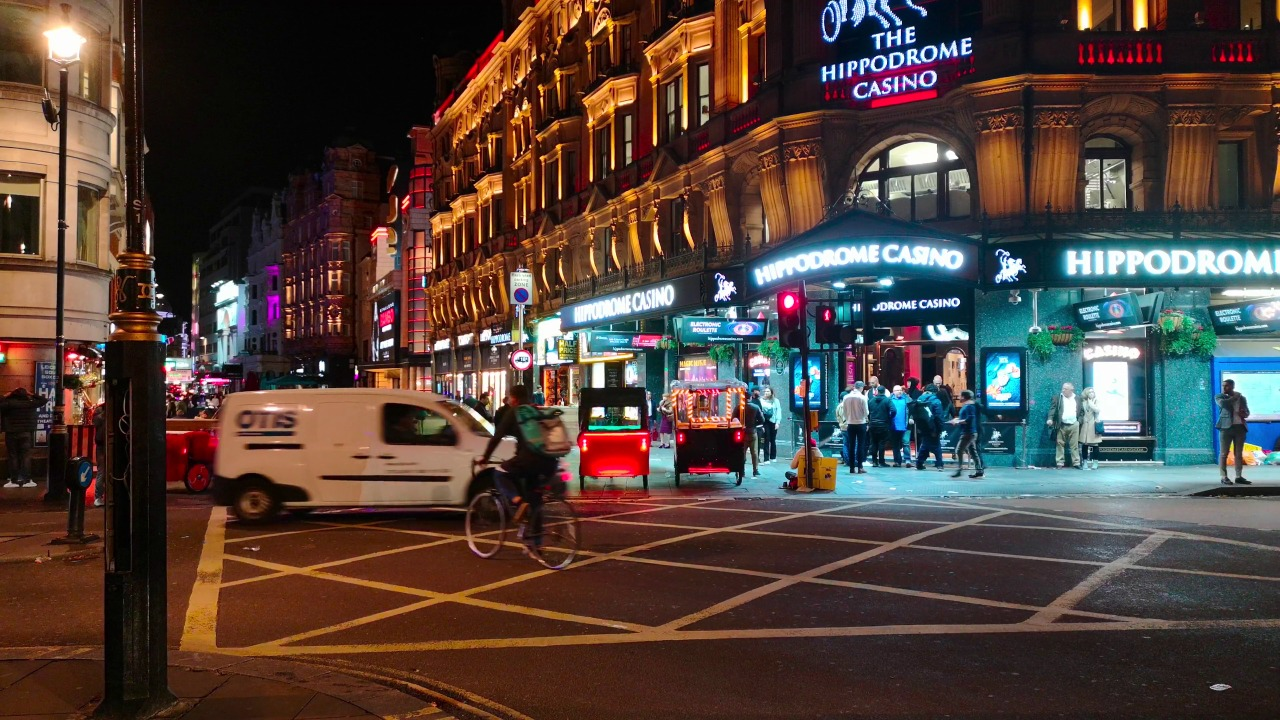car: (207, 386, 520, 521), (575, 385, 666, 499), (669, 377, 757, 494), (160, 411, 226, 494)
person: (471, 376, 591, 570), (1213, 375, 1254, 491), (1, 388, 45, 489), (1044, 376, 1091, 466), (909, 386, 949, 471), (1045, 378, 1083, 467), (778, 432, 832, 493), (782, 432, 832, 493), (844, 381, 871, 477), (950, 389, 977, 482), (732, 389, 760, 476), (1078, 388, 1109, 466), (866, 386, 895, 466), (974, 392, 1000, 478), (887, 385, 912, 472), (1079, 383, 1103, 468), (757, 388, 782, 461), (94, 399, 107, 507), (636, 387, 656, 453), (657, 390, 672, 453), (471, 390, 498, 420), (864, 372, 890, 395), (927, 367, 948, 394), (529, 382, 551, 407), (935, 391, 955, 415), (496, 399, 511, 430), (835, 386, 845, 432), (901, 376, 918, 395), (746, 381, 762, 400)
